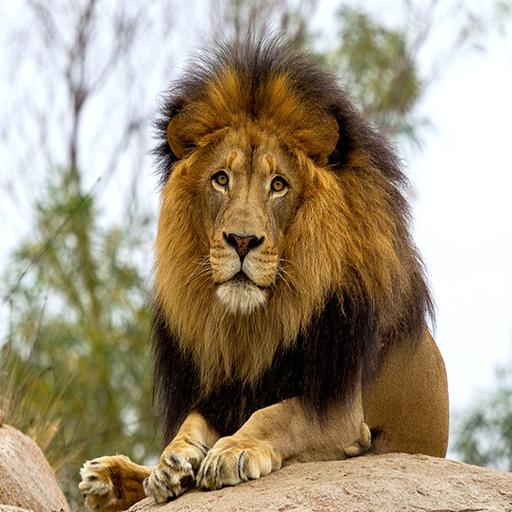Lion: (66, 12, 458, 512)
